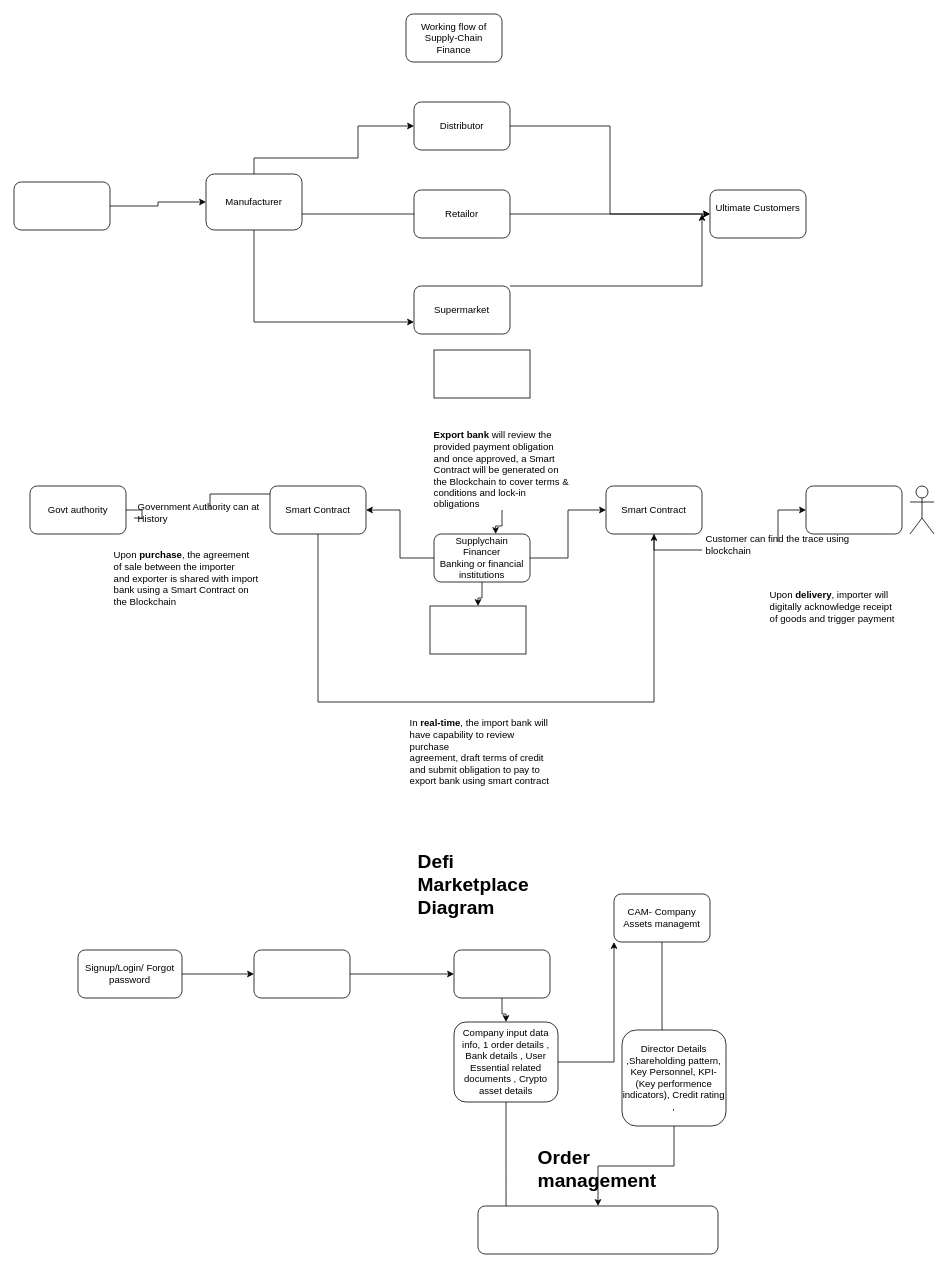
The diagram is 948 pixels wide and 1268 high, and some of its shapes have lost their labels. Each missing label, with the centre of its shape:
Actor: the point at 921,509
Blockchain based DEFI Digram from transaction point of view: the point at 481,373
Customer/Importer: the point at 853,509
Distributed ledger: the point at 477,629
Onboarding details: the point at 501,973
Supplier: the point at 61,205
UI-Inferface/ Dashbard of comany performance: the point at 301,973
